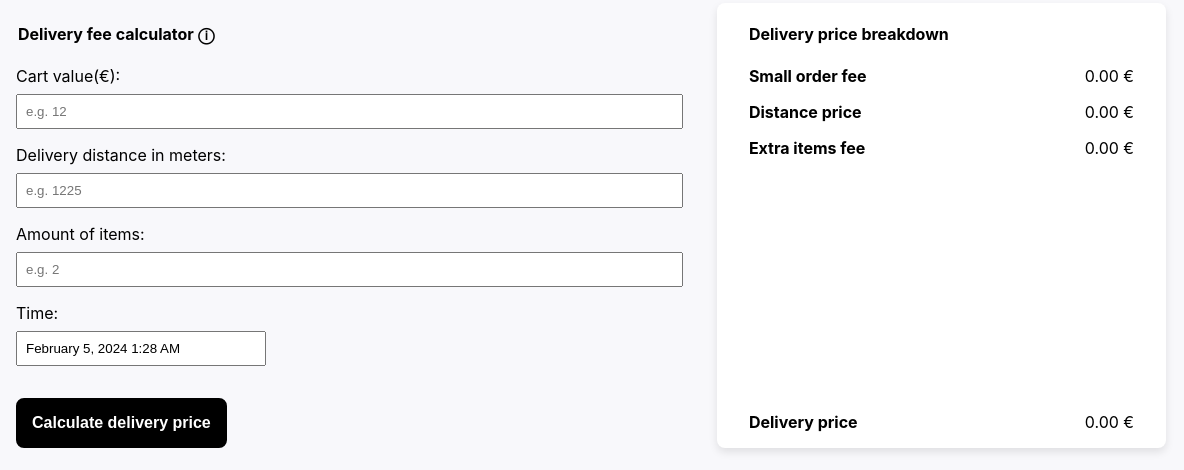
Test: App component › Should calculate delivery price, with small order fee
Type "8" into the number field with test id "card-value". click: point(349, 111)
box: [16, 94, 683, 128]
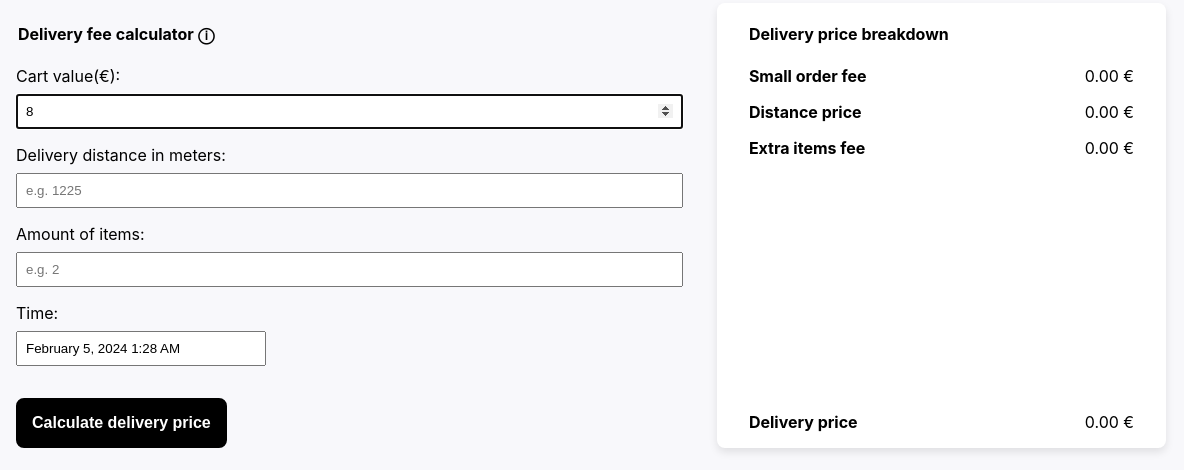
Type "1499" into the number field with test id "delivery-distance". click: point(349, 190)
box: [16, 172, 683, 208]
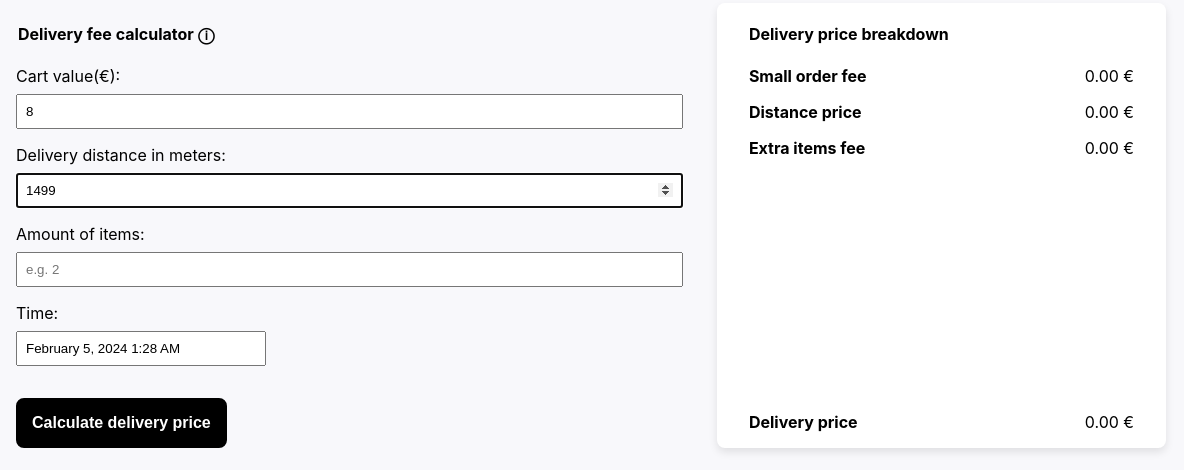
Type "5" into the number field with test id "number-of-items". click: point(349, 269)
box: [16, 252, 683, 286]
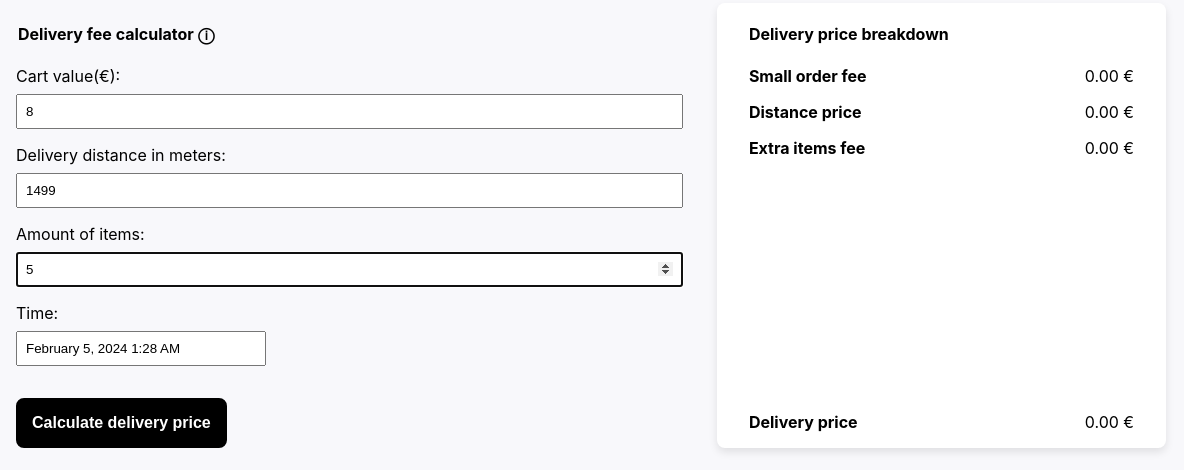
Click the button with test id "calculate-button". click: point(121, 422)
box: [16, 398, 227, 448]
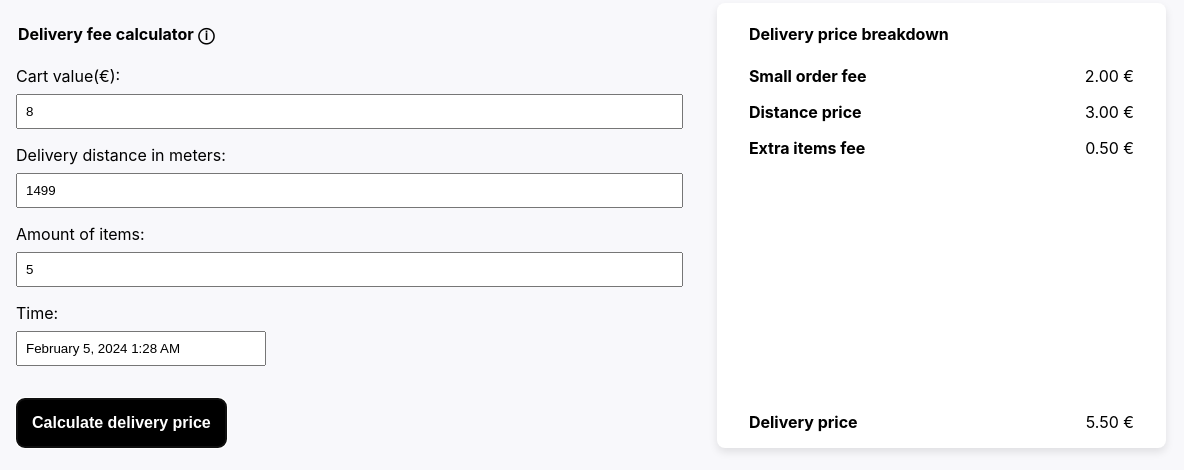
Expected: the text with test id "small-order-fee" reads "2.00 €", [1085, 66, 1134, 86]
Expected: the text with test id "distance-fee" reads "3.00 €", [1085, 102, 1134, 122]
Expected: the text with test id "extra-items-fee" reads "0.50 €", [1085, 138, 1134, 158]
